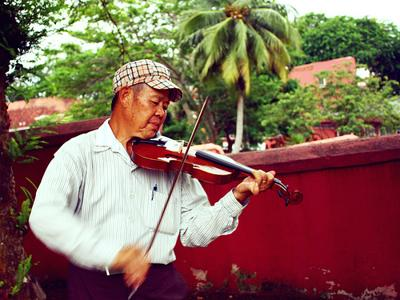person: (27, 58, 279, 300)
